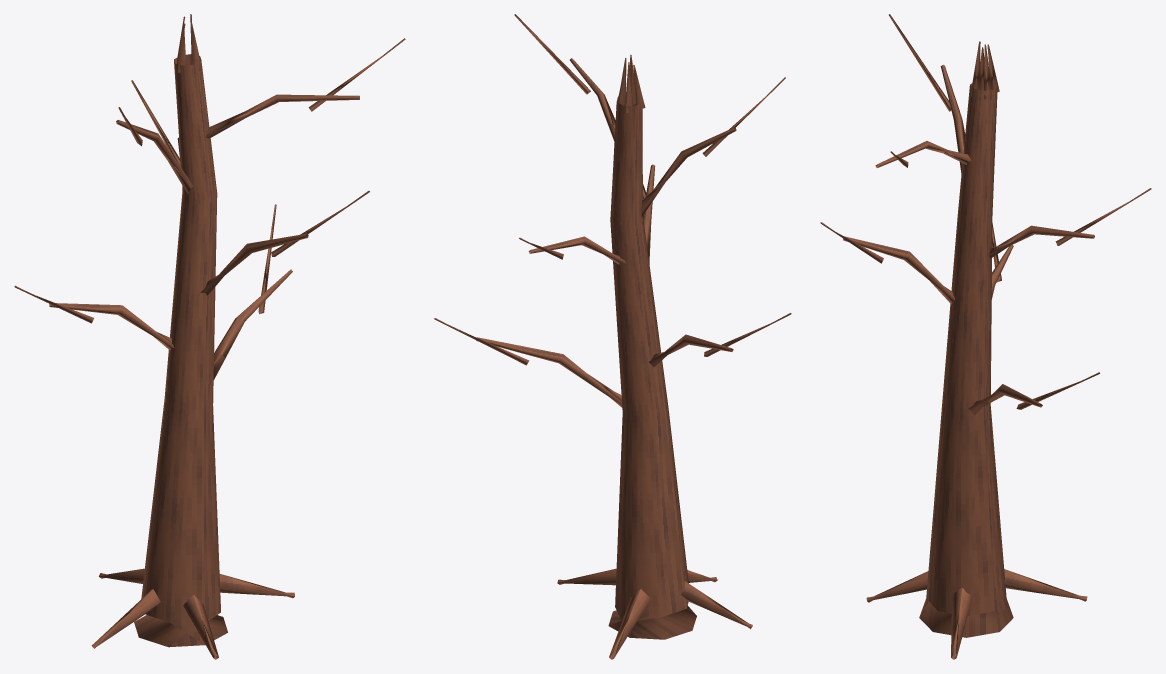
File: snag.glb
The picture shows the model from 3 angles, left to right: view 1: azimuth 30°, elevation 25°; view 2: azimuth 150°, elevation 25°; view 3: azimuth 270°, elevation 25°; orthographic projection. The views are drawn at different scales.
Parts seen in each view (by area): view 1: snag_Bark_Silver; view 2: snag_Bark_Silver; view 3: snag_Bark_Silver.
Part boxes in pixels (bbox=[...]): snag_Bark_Silver: bbox=[14, 14, 405, 659]; snag_Bark_Silver: bbox=[434, 14, 791, 659]; snag_Bark_Silver: bbox=[820, 14, 1151, 659].
Size of the model in its own units: 4.41 by 7.42 by 3.82.
Materials: 1 (1 with a texture image).
